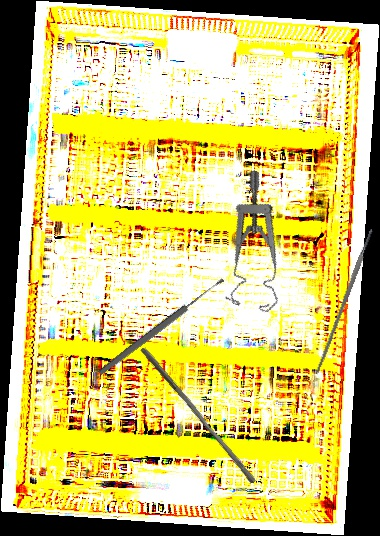Pusher: (134, 346, 262, 485)
Scalpel Handle: (313, 228, 376, 376)
Speculum: (199, 168, 322, 320)
Surgical Spoon: (96, 276, 227, 377)
